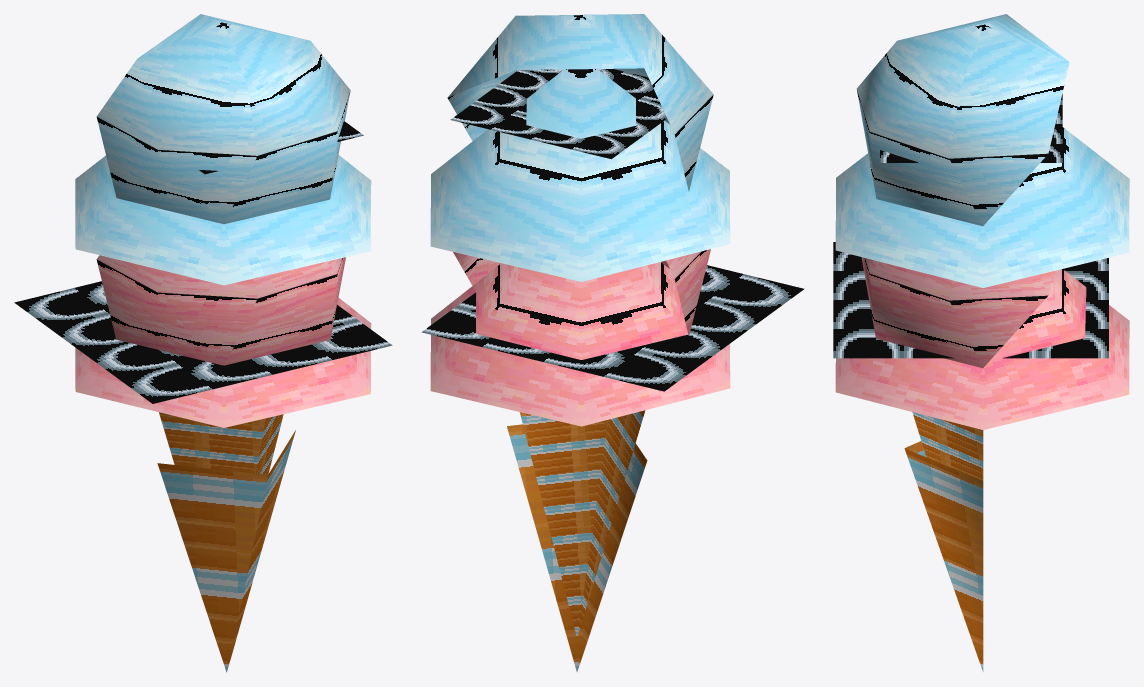
File: 5604u_ice00_hs.gltf
3 renders of one model, left to right at view 1: azimuth 30°, elevation 25°; view 2: azimuth 150°, elevation 25°; view 3: azimuth 270°, elevation 25°, orthographic.
Visible parts, largest first — view 1: 5604u_ice00_hs; view 2: 5604u_ice00_hs; view 3: 5604u_ice00_hs.
Part boxes in pixels (left/top/right/bottom): 5604u_ice00_hs: left=14, top=14, right=392, bottom=672; 5604u_ice00_hs: left=421, top=14, right=803, bottom=672; 5604u_ice00_hs: left=833, top=14, right=1129, bottom=671.
Bounding box in the file's own units: 0.4375 × 0.9199 × 0.3818.
Materials: 6 (6 with a texture image).
